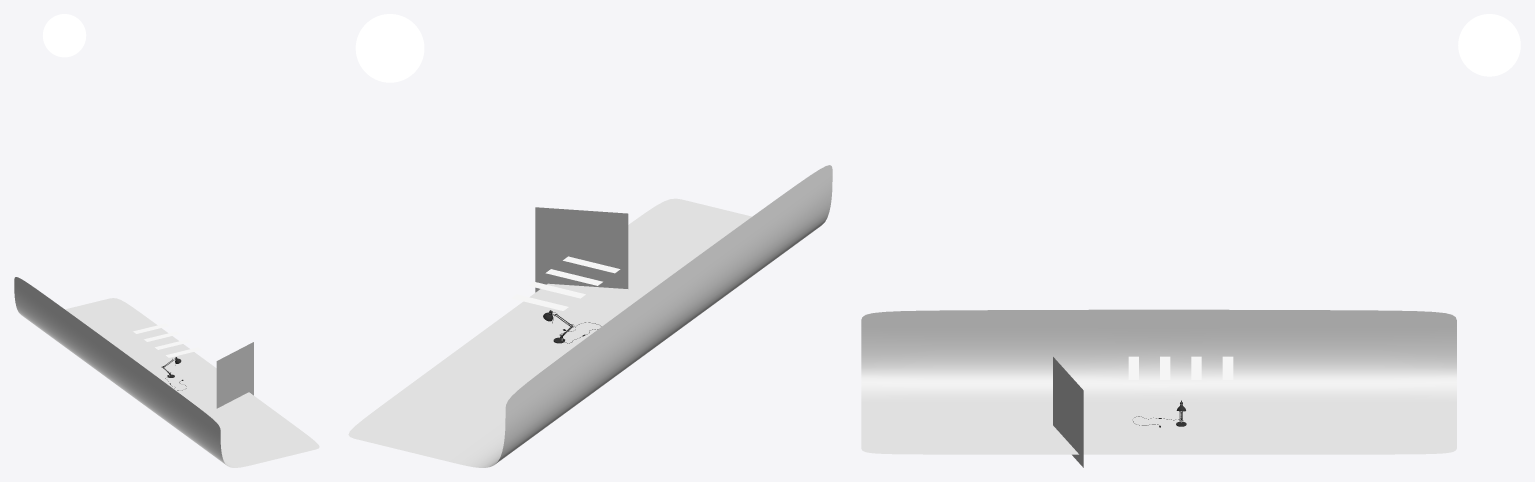
Rendered from little-lamp.glb.
3 renders of one model, left to right at view 1: azimuth 30°, elevation 25°; view 2: azimuth 150°, elevation 25°; view 3: azimuth 270°, elevation 25°, orthographic. The views are drawn at different scales.
Parts seen in each view (by area): view 1: Backdrop, BounceCard, emitter, Emitter_0001; view 2: Backdrop, BounceCard, emitter, Emitter_0001; view 3: Backdrop, emitter, BounceCard, Emitter_0001.
Boxes of the visible parts, left/top/right/bottom form: Backdrop: left=14, top=277, right=319, bottom=467; BounceCard: left=216, top=342, right=253, bottom=408; emitter: left=43, top=14, right=86, bottom=57; Emitter_0001: left=133, top=323, right=201, bottom=357; Backdrop: left=348, top=165, right=832, bottom=467; BounceCard: left=535, top=207, right=628, bottom=292; emitter: left=355, top=14, right=424, bottom=82; Emitter_0001: left=511, top=256, right=620, bottom=310; Backdrop: left=861, top=309, right=1456, bottom=454; emitter: left=1458, top=14, right=1520, bottom=76; BounceCard: left=1053, top=357, right=1083, bottom=467; Emitter_0001: left=1128, top=356, right=1233, bottom=379.
Size of the model in its own units: 35.26 by 88.01 by 126.
Materials: 5 (5 with a texture image).
